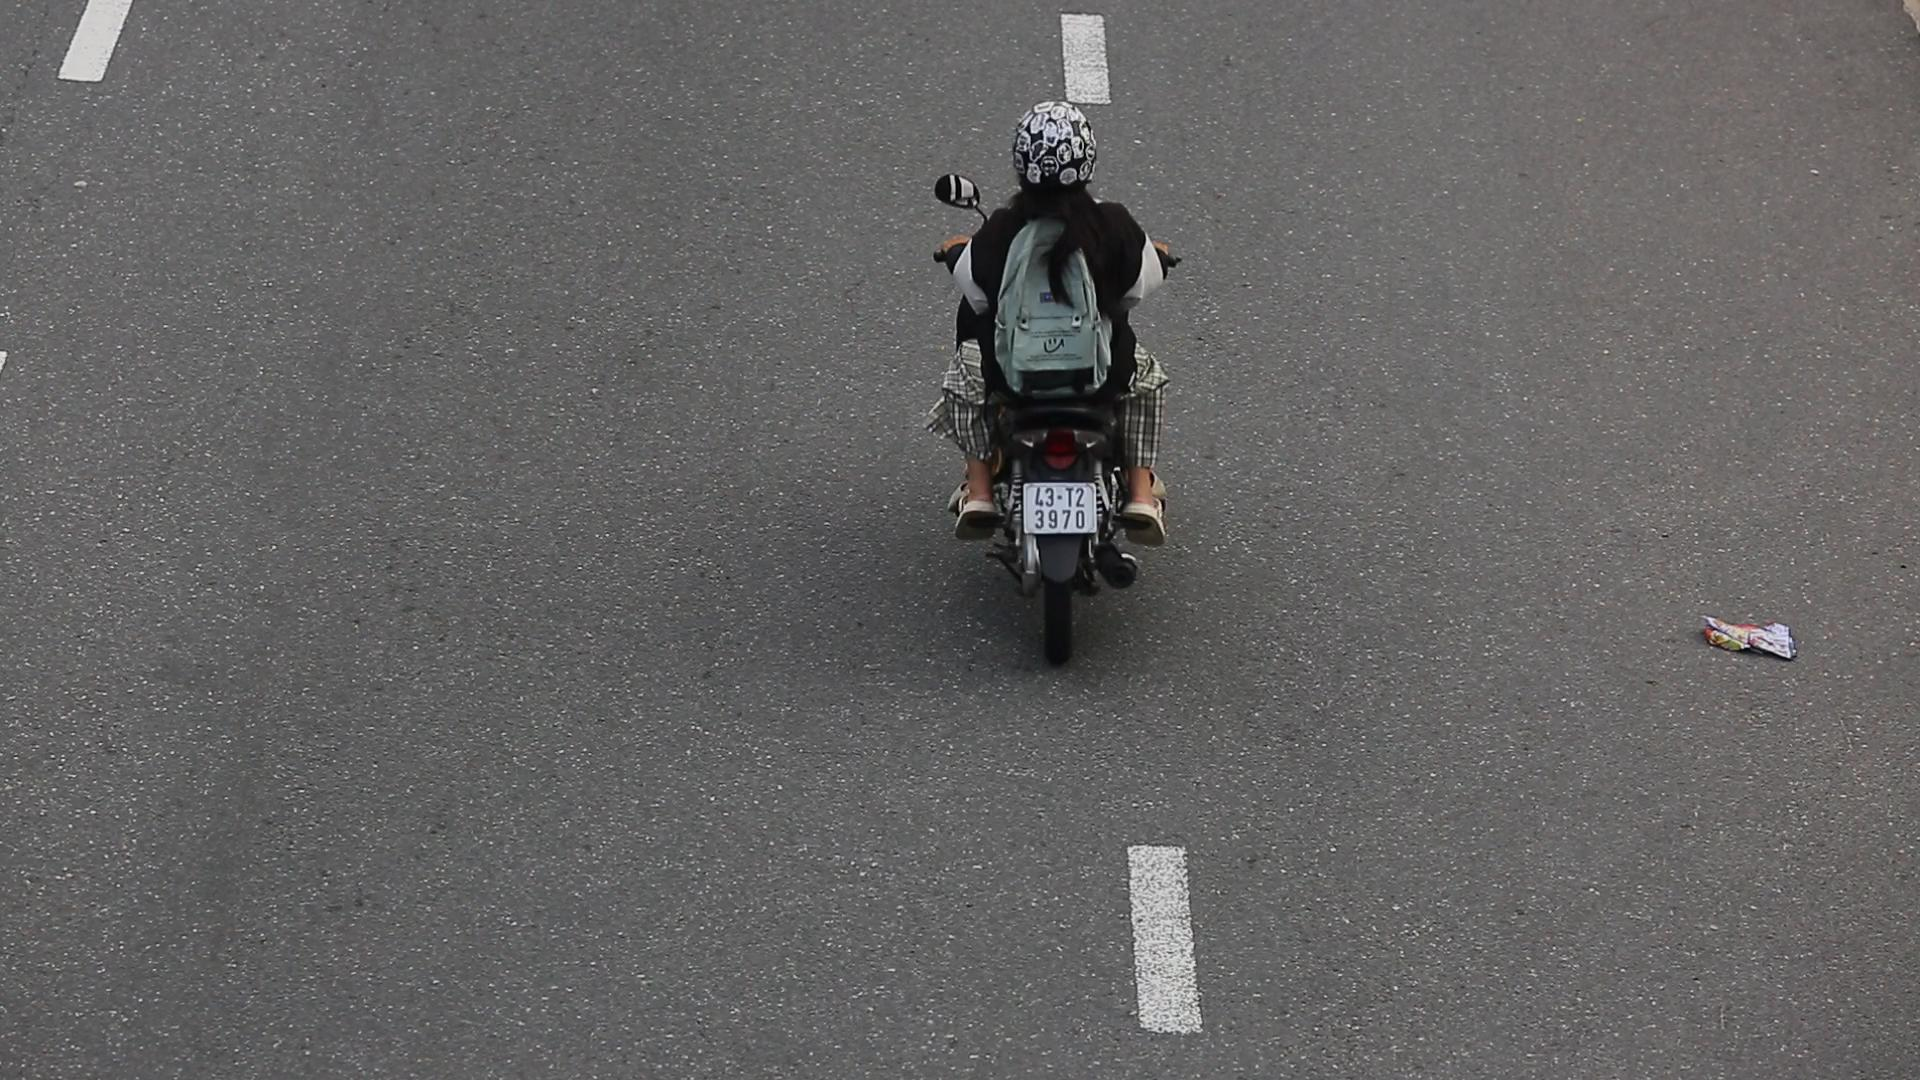motobike: (916, 94, 1188, 675)
